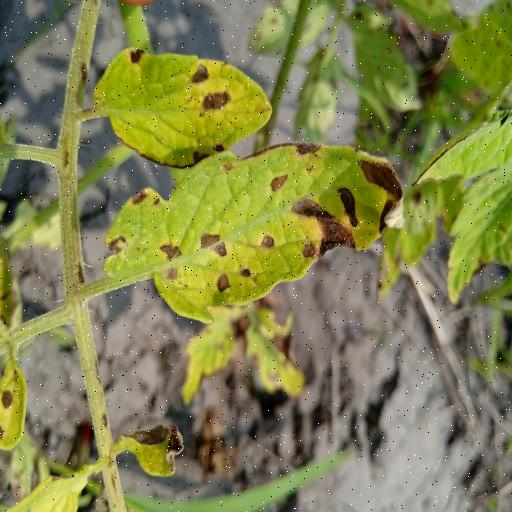Tomato_Brown_Spots: (100, 139, 410, 327), (92, 41, 274, 174)
